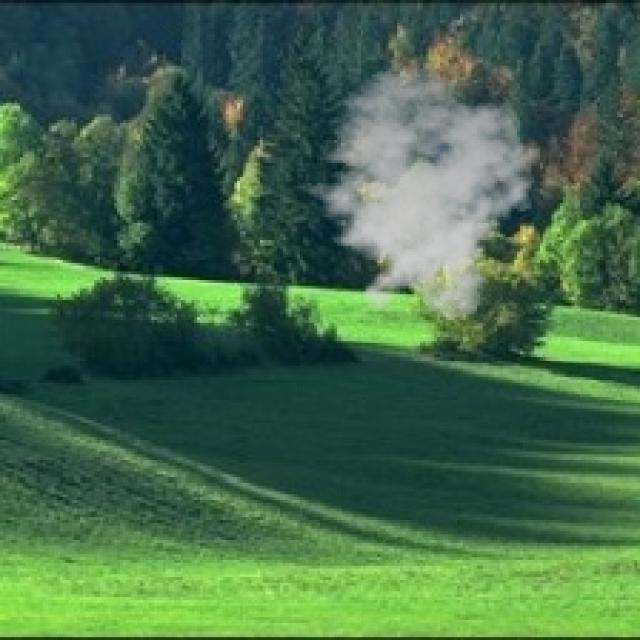smoke: (294, 66, 549, 323)
